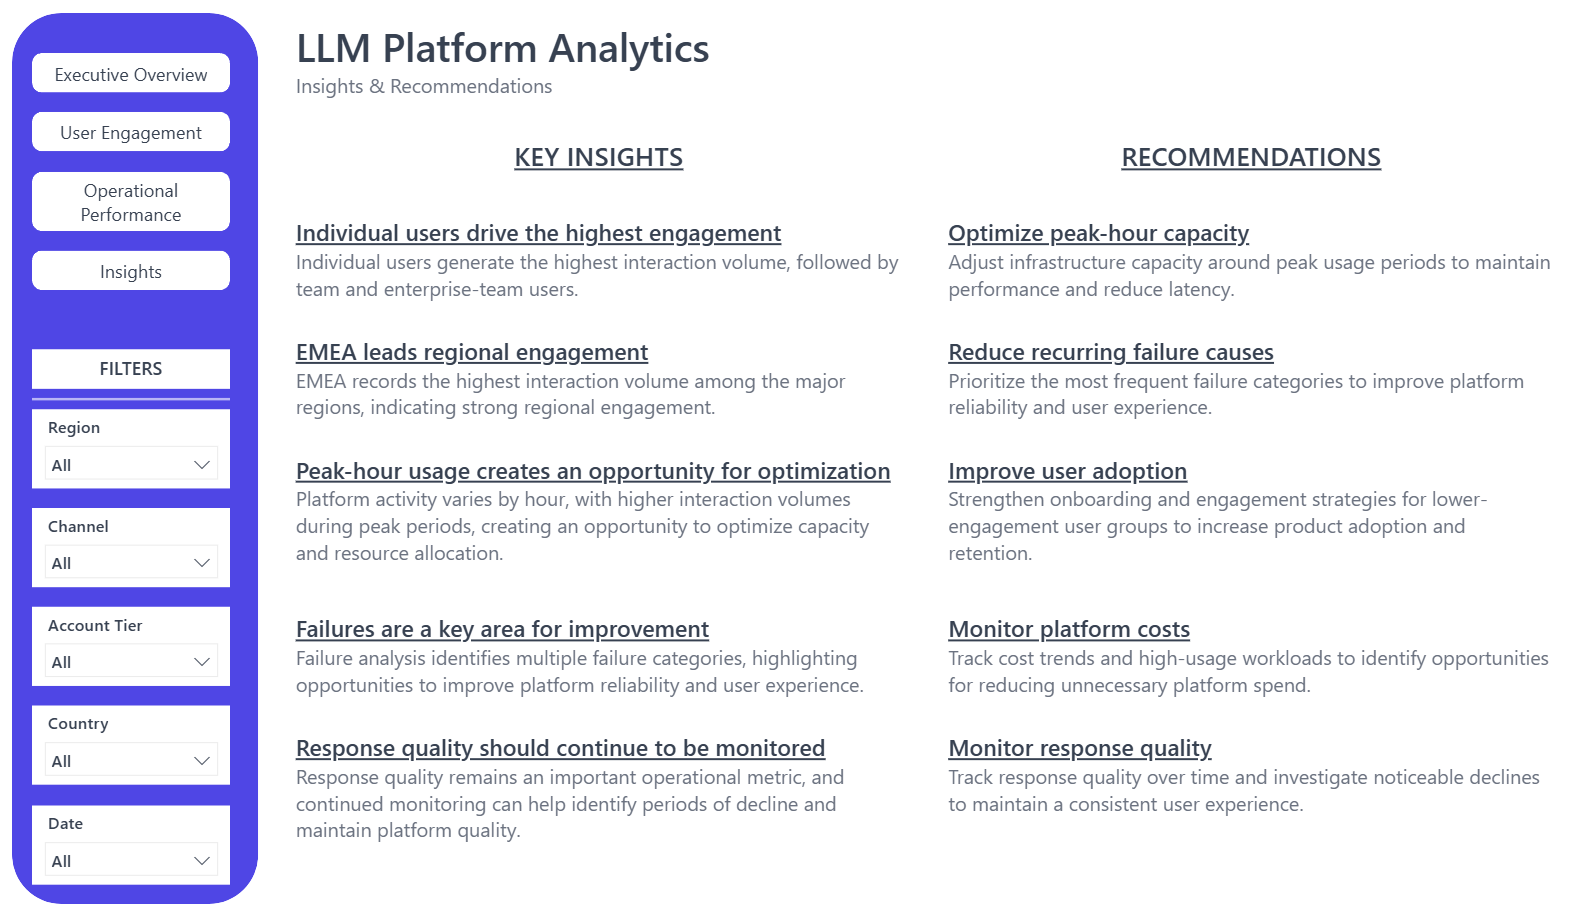

The page's visual inventory and layout, read from the dashboard file:
{"tool":"powerbi","page":{"name":"Insights","canvas":[1280,720],"ordinal":3},"visuals":[{"type":"shape","box":[0,0,199,720],"z":0},{"type":"textbox","box":[224,0,1056,80],"z":1000},{"type":"actionButton","box":[16,32,160,32],"z":2000},{"type":"actionButton","box":[16,80,160,32],"z":3000},{"type":"actionButton","box":[16,128,160,48],"z":4000},{"type":"actionButton","box":[16,192,160,32],"z":5000},{"type":"textbox","box":[16,272,160,32],"z":6000},{"type":"shape","box":[16,304,160,16],"z":7000},{"type":"slicer","fields":{"Values":["llm_system_interactions_cleaned.region"]},"box":[16,320,160,64],"z":8000},{"type":"slicer","fields":{"Values":["llm_system_interactions_cleaned.channel"]},"box":[16,400,160,64],"z":9000},{"type":"slicer","fields":{"Values":["llm_system_interactions_cleaned.timestamp_utc"]},"box":[16,640,160,64],"z":10000},{"type":"slicer","fields":{"Values":["llm_system_interactions_cleaned.country_code"]},"box":[16,560,160,64],"z":11000},{"type":"slicer","fields":{"Values":["llm_system_interactions_cleaned.account_tier"]},"box":[16,480,160,64],"z":12000},{"type":"textbox","box":[224,96,500,48],"z":12001},{"type":"textbox","box":[752,96,500,48],"z":12002},{"type":"textbox","box":[224,160,500,80],"z":12003},{"type":"textbox","box":[224,256,500,80],"z":12004},{"type":"textbox","box":[224,352,500,112],"z":12005},{"type":"textbox","box":[224,480,500,80],"z":12006},{"type":"textbox","box":[224,576,500,112],"z":12007},{"type":"textbox","box":[752,160,500,80],"z":12008},{"type":"textbox","box":[752,256,500,80],"z":12009},{"type":"textbox","box":[752,352,500,112],"z":12010},{"type":"textbox","box":[752,480,500,80],"z":12011},{"type":"textbox","box":[752,576,500,112],"z":12012}]}

Visuals, with their boxes in screenshot pixels (x1, y1, x2, y2), scaled from the page's 1280x720 canvas onto the 1586x918 screenshot:
shape: left=0, top=0, right=247, bottom=917
textbox: left=278, top=0, right=1585, bottom=102
actionButton: left=20, top=41, right=218, bottom=82
actionButton: left=20, top=102, right=218, bottom=143
actionButton: left=20, top=163, right=218, bottom=224
actionButton: left=20, top=245, right=218, bottom=286
textbox: left=20, top=347, right=218, bottom=388
shape: left=20, top=388, right=218, bottom=408
slicer - llm_system_interactions_cleaned.region: left=20, top=408, right=218, bottom=490
slicer - llm_system_interactions_cleaned.channel: left=20, top=510, right=218, bottom=592
slicer - llm_system_interactions_cleaned.timestamp_utc: left=20, top=816, right=218, bottom=898
slicer - llm_system_interactions_cleaned.country_code: left=20, top=714, right=218, bottom=796
slicer - llm_system_interactions_cleaned.account_tier: left=20, top=612, right=218, bottom=694
textbox: left=278, top=122, right=897, bottom=184
textbox: left=932, top=122, right=1551, bottom=184
textbox: left=278, top=204, right=897, bottom=306
textbox: left=278, top=326, right=897, bottom=428
textbox: left=278, top=449, right=897, bottom=592
textbox: left=278, top=612, right=897, bottom=714
textbox: left=278, top=734, right=897, bottom=877
textbox: left=932, top=204, right=1551, bottom=306
textbox: left=932, top=326, right=1551, bottom=428
textbox: left=932, top=449, right=1551, bottom=592
textbox: left=932, top=612, right=1551, bottom=714
textbox: left=932, top=734, right=1551, bottom=877
